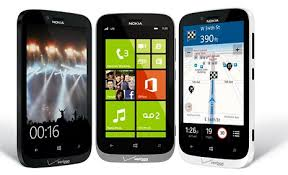nokia: (177, 5, 264, 165), (13, 6, 95, 168), (93, 10, 177, 164)
